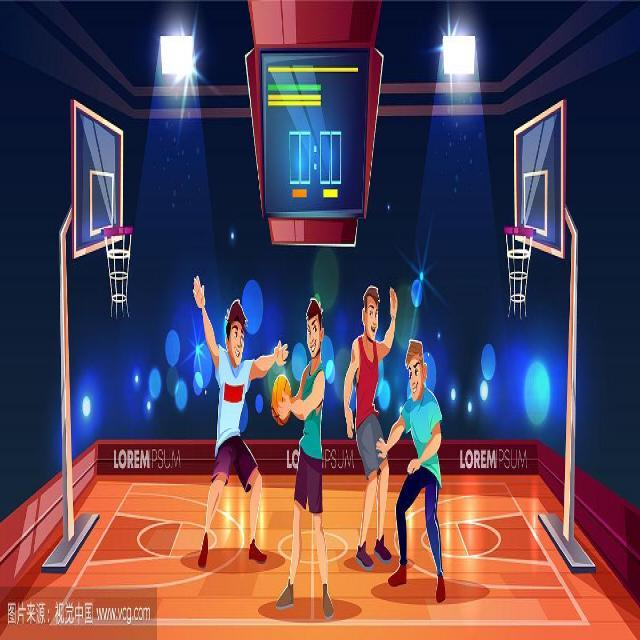rim: (274, 378, 292, 426)
